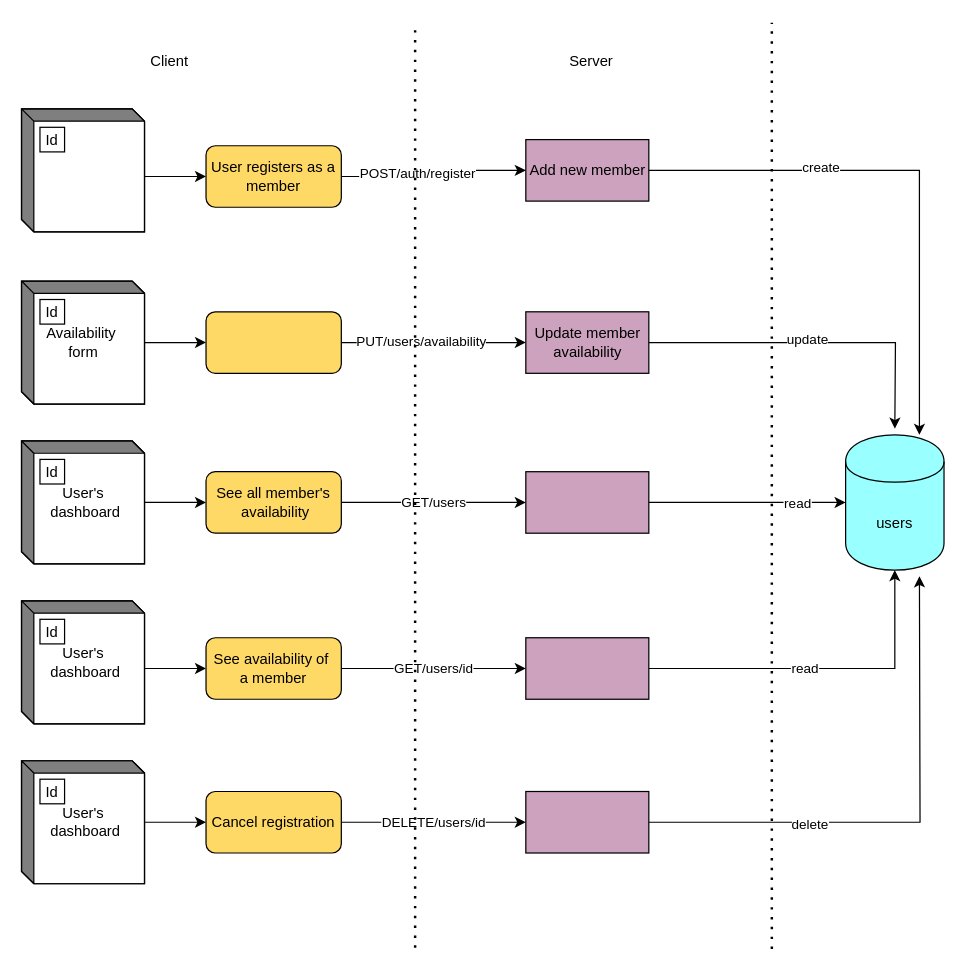
Some shapes in this 966 by 972 pixel diagram are drawn without their labels. The shapes that lost their labels are listed below. From the top down, each one's centre as x and y in pixels, then its label:
At (x=82, y=170): "Member registration form".
At (x=273, y=342): "Update availability".
At (x=587, y=501): "Get all members availability".
At (x=587, y=668): "Get member by ID".
At (x=587, y=821): "Delete member".
